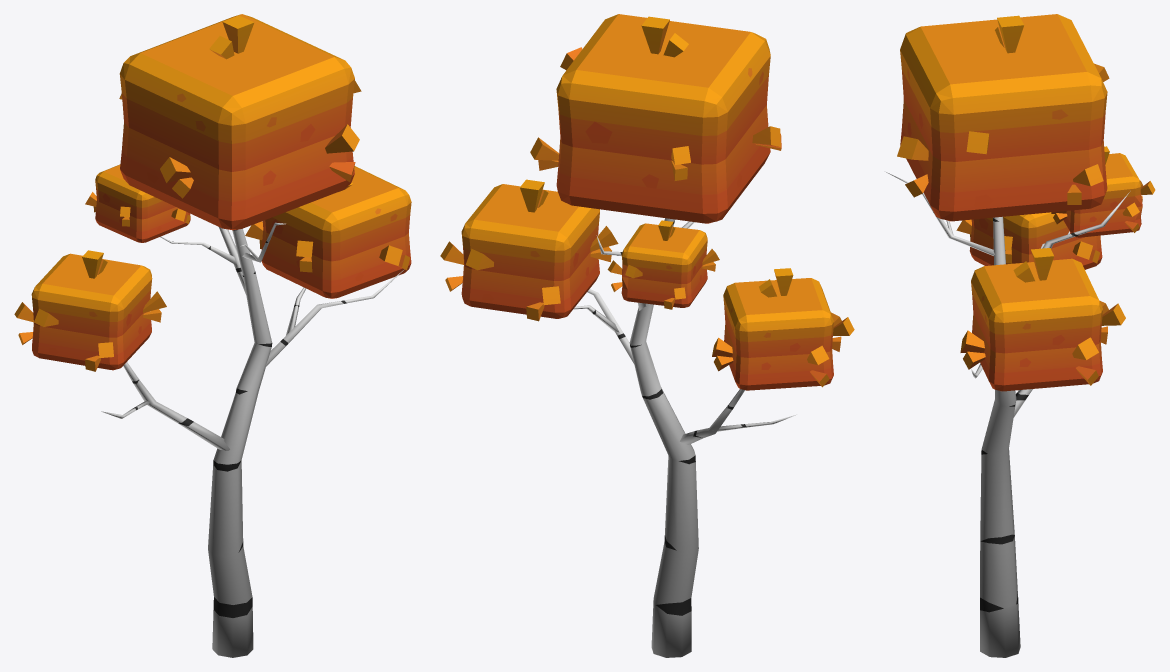
File: birch3.glb
3 renders of one model, left to right at view 1: azimuth 30°, elevation 25°; view 2: azimuth 150°, elevation 25°; view 3: azimuth 270°, elevation 25°, orthographic.
Visible parts, largest first — view 1: birch3; view 2: birch3; view 3: birch3.
Boxes of the visible parts, <box> form: birch3: <box>14,14,411,657</box>; birch3: <box>440,14,854,657</box>; birch3: <box>886,14,1155,657</box>.
Size of the model in its own units: 4.78 by 7.58 by 2.95.
1 material, 1 textured.
